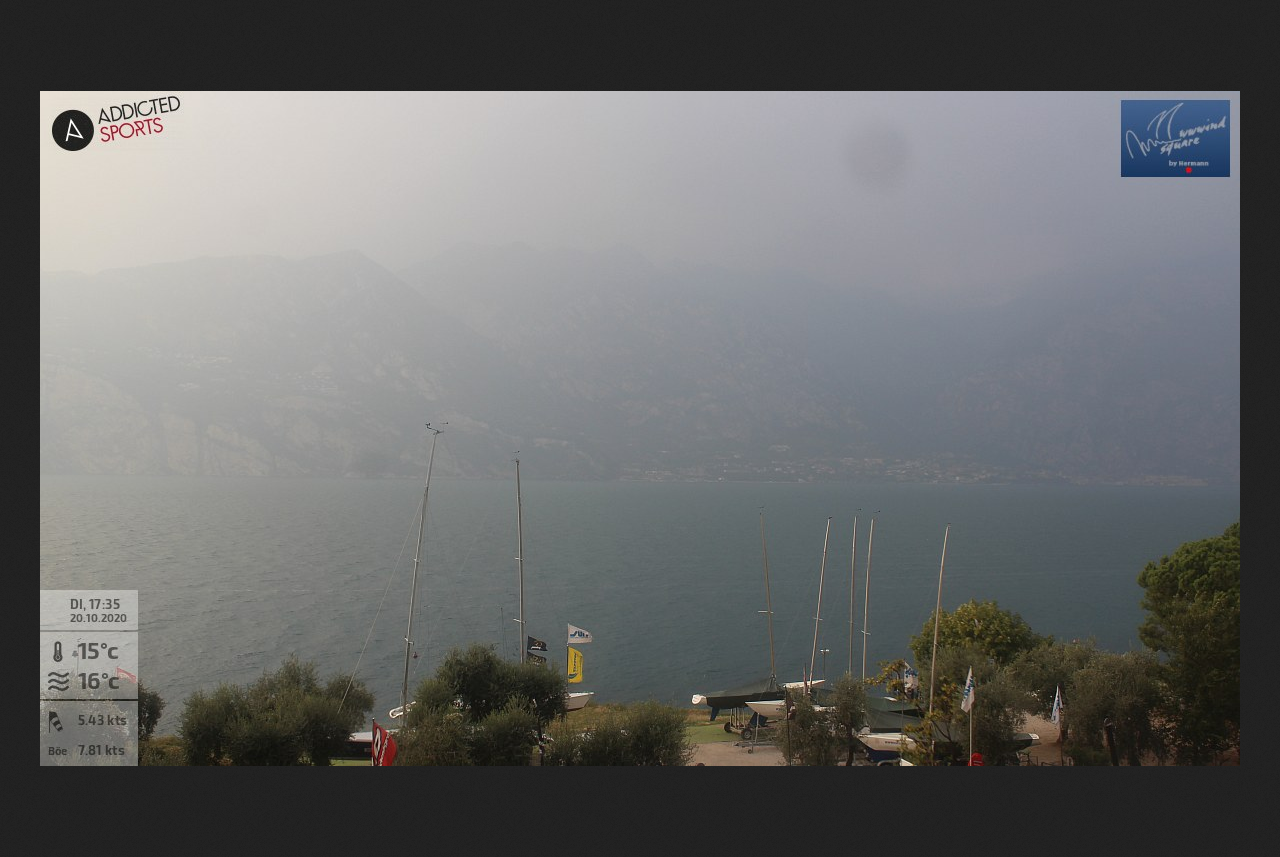no: (956, 658, 979, 717), (1049, 681, 1067, 726)
yes: (564, 643, 585, 687), (563, 618, 596, 645), (523, 634, 549, 653)
